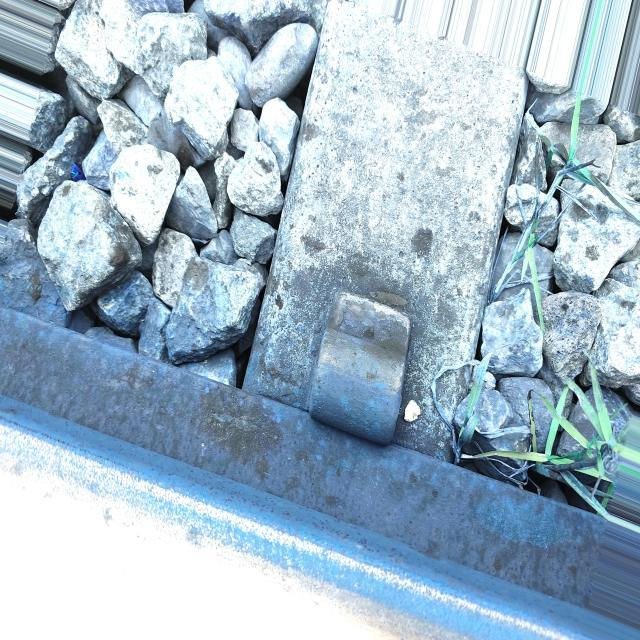Missing Fastener: (302, 278, 434, 451)
